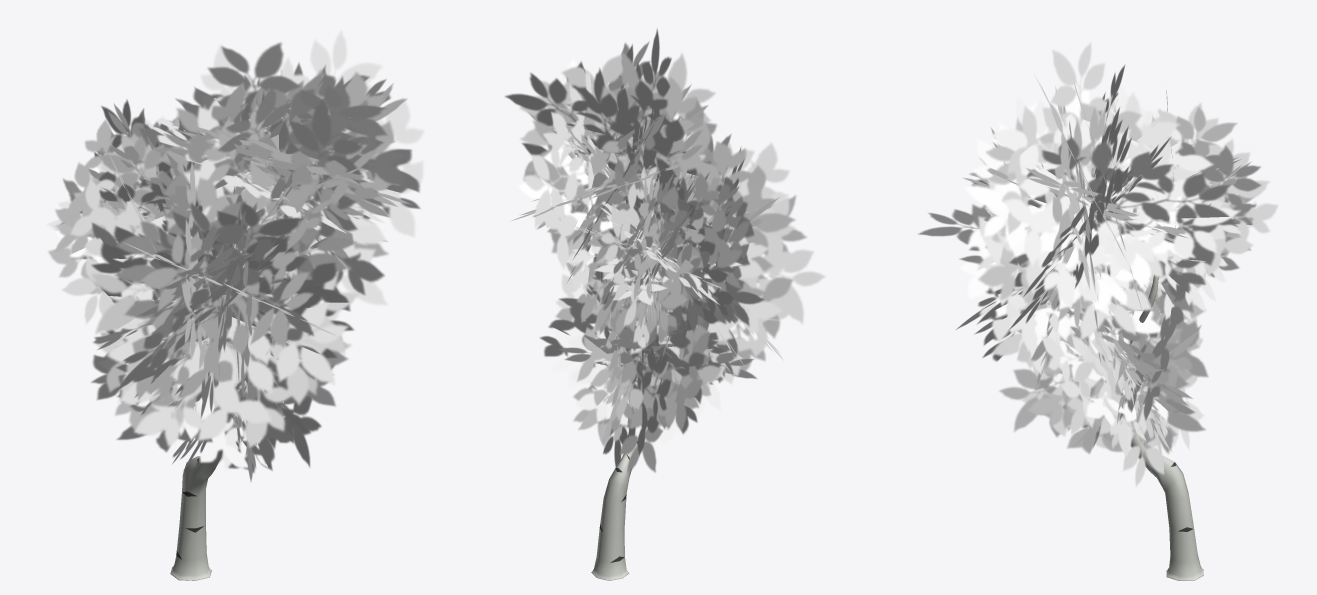
Rendered from tree_stylized_6.glb.
3 renders of one model, left to right at view 1: azimuth 30°, elevation 25°; view 2: azimuth 150°, elevation 25°; view 3: azimuth 270°, elevation 25°, orthographic. The views are drawn at different scales.
Visible parts, largest first — view 1: Canopy, BirchTree_Dead_2; view 2: Canopy, BirchTree_Dead_2; view 3: Canopy, BirchTree_Dead_2.
Part boxes in pixels (x1=…): Canopy: x1=46, y1=30, x2=424, y2=481; BirchTree_Dead_2: x1=156, y1=217, x2=280, y2=580; Canopy: x1=505, y1=28, x2=825, y2=473; BirchTree_Dead_2: x1=591, y1=205, x2=692, y2=580; Canopy: x1=918, y1=42, x2=1278, y2=486; BirchTree_Dead_2: x1=1069, y1=261, x2=1203, y2=580.
Size of the model in its own units: 2.66 by 3.97 by 2.67.
Materials: 3 (1 with a texture image).
